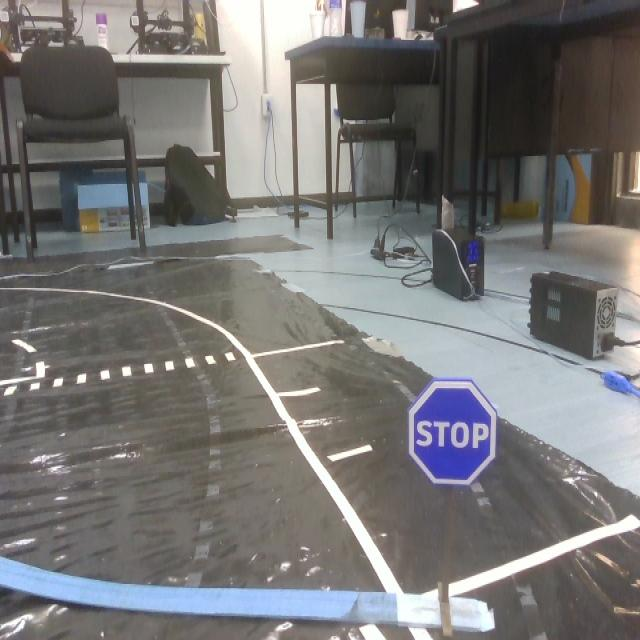no_entry: (413, 372, 491, 488)
